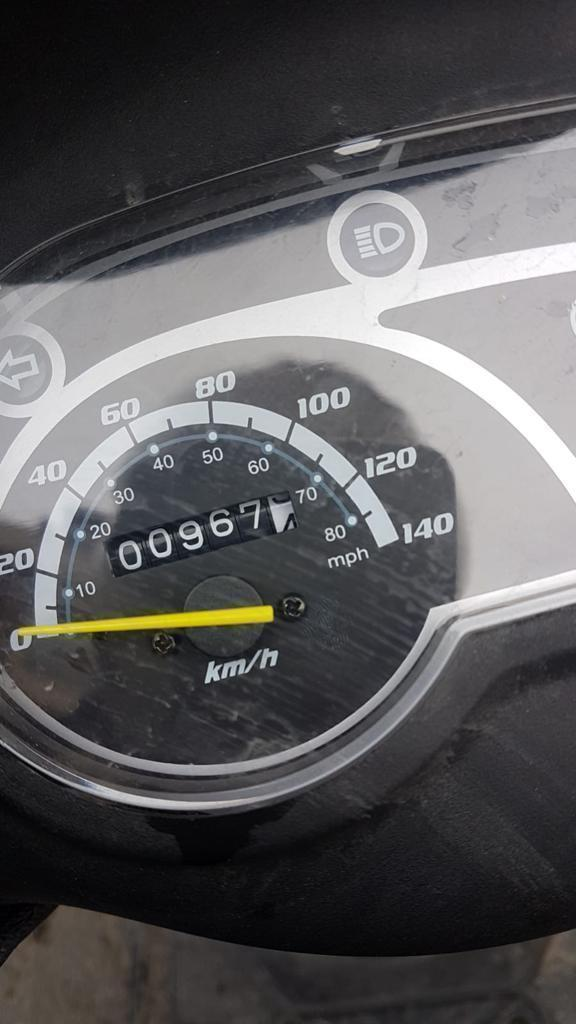0: (147, 526, 174, 559), (116, 540, 144, 571), (123, 486, 135, 504), (101, 520, 111, 536)
3: (112, 489, 125, 505)
4: (279, 511, 300, 540)
6: (209, 506, 236, 538)
7: (237, 500, 263, 529), (295, 486, 305, 505)
9: (177, 520, 206, 552)
odometer: (101, 485, 308, 581)
